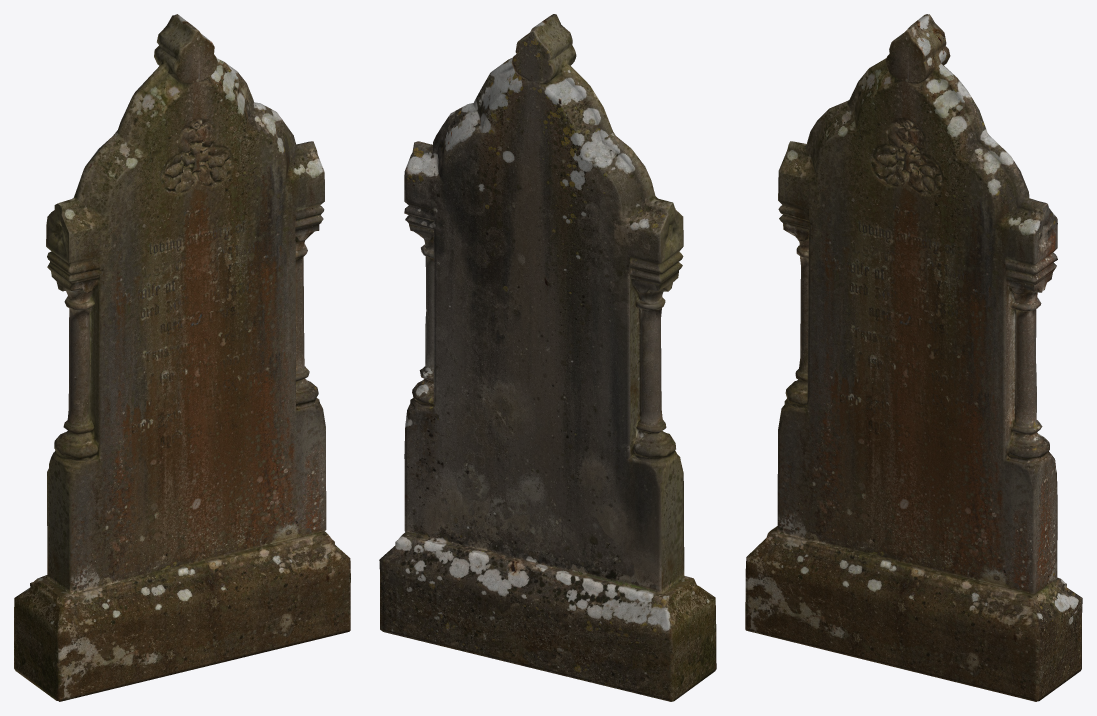
3 renders of one model, left to right at view 1: azimuth 30°, elevation 25°; view 2: azimuth 150°, elevation 25°; view 3: azimuth 330°, elevation 25°, orthographic.
Parts seen in each view (by area): view 1: wjuvdfeqx_LOD0_TIER2_000; view 2: wjuvdfeqx_LOD0_TIER2_000; view 3: wjuvdfeqx_LOD0_TIER2_000.
Boxes of the visible parts, x1,y1,x2,y2 form: wjuvdfeqx_LOD0_TIER2_000: [14, 14, 350, 701]; wjuvdfeqx_LOD0_TIER2_000: [379, 14, 716, 701]; wjuvdfeqx_LOD0_TIER2_000: [745, 14, 1082, 701].
Bounding box in the file's own units: 0.9258 × 1.9 × 0.2457.
1 material, 1 textured.
